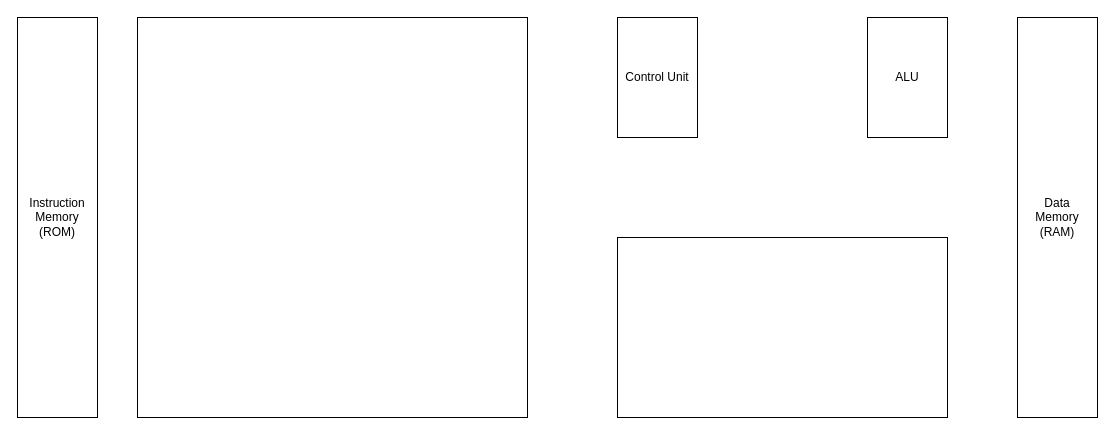
Some shapes in this 1115 by 435 pixel diagram are drawn without their labels. The shapes that lost their labels are listed below. From the top down, each one's centre as x and y in pixels, then its label:
the point at 332,217: Instruction Field Split
the point at 782,327: register file
